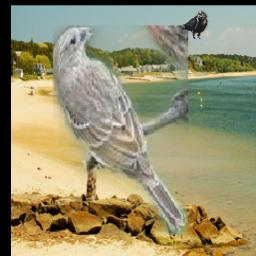Crow: (180, 12, 208, 40)
Sparrow: (53, 25, 188, 235)
